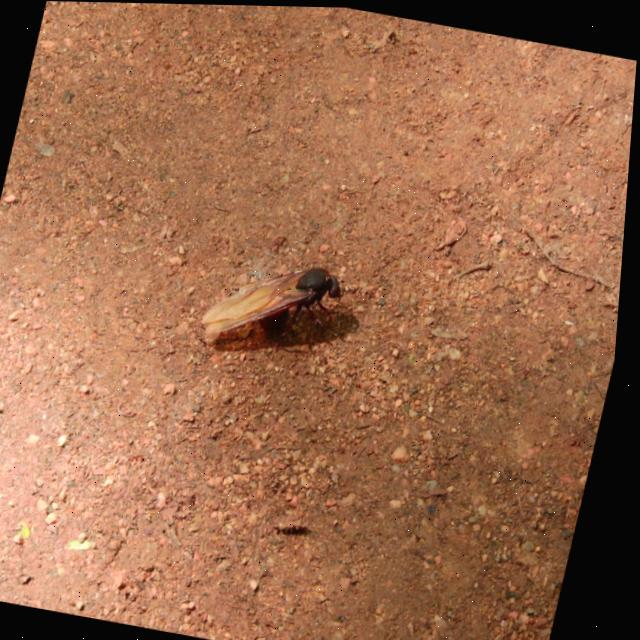Alive-Female-Alate: (202, 248, 354, 357)
